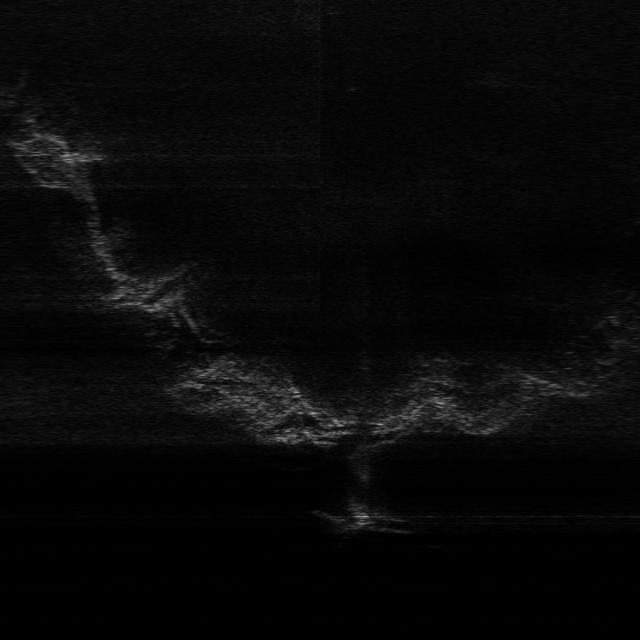plane: (311, 507, 417, 536)
